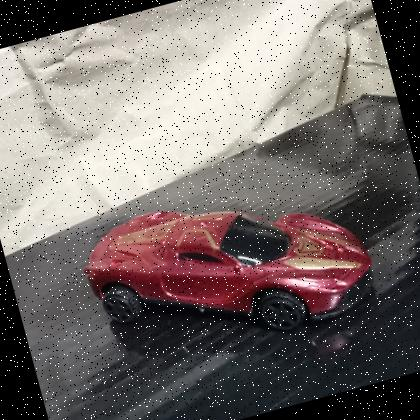Car: (66, 153, 391, 390)
